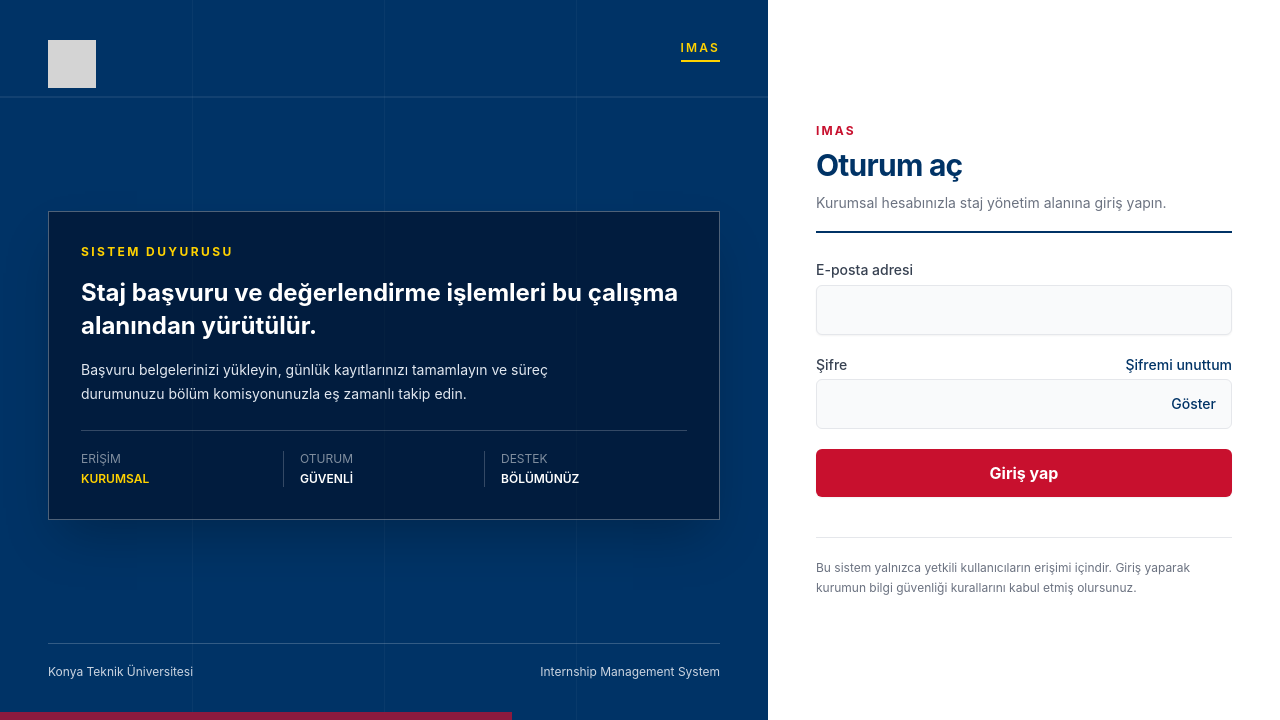
it: LoginPage › shows an inline error for invalid credentials without redirecting
Step 1. Type "student@ktun.edu.tr" into the field labelled "E-posta adresi" → (1024, 310), box [816, 284, 1232, 334]
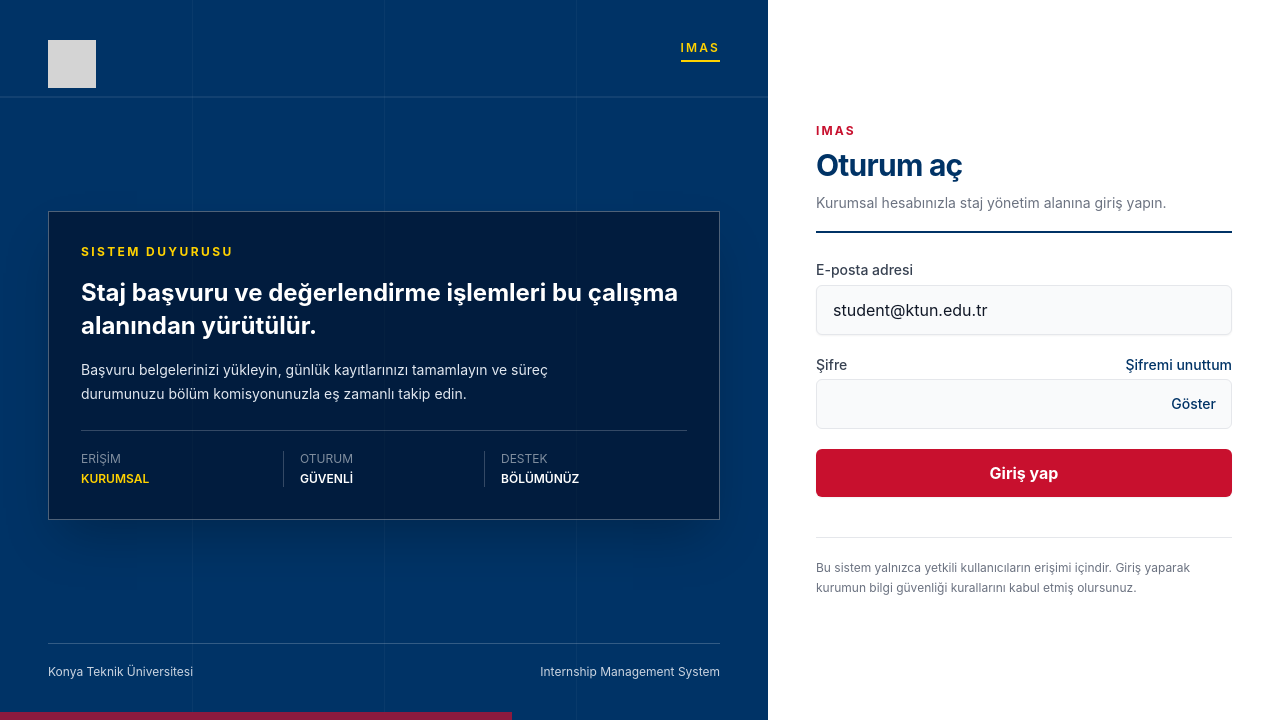
Step 2. Type "incorrect-password" into the password field labelled "Şifre" → (1024, 404), box [816, 378, 1232, 428]
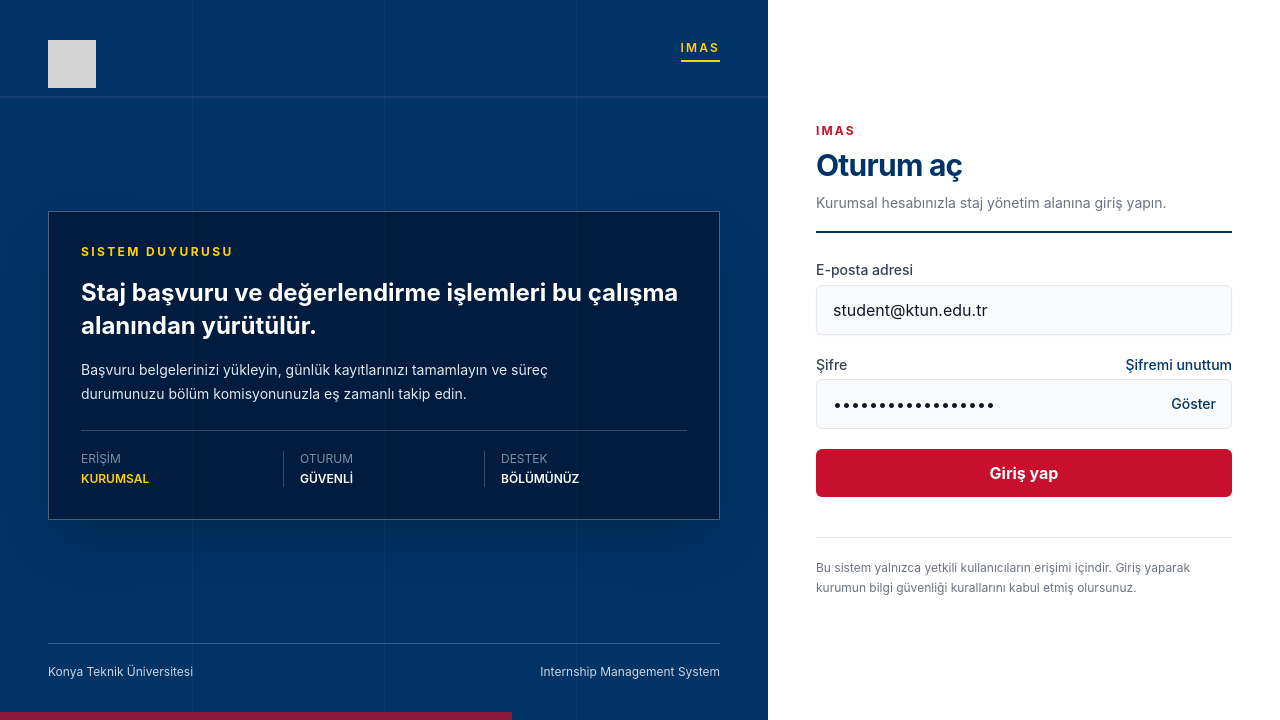
Step 3. Click the button "Giriş yap" → (1024, 472), box [816, 448, 1232, 496]
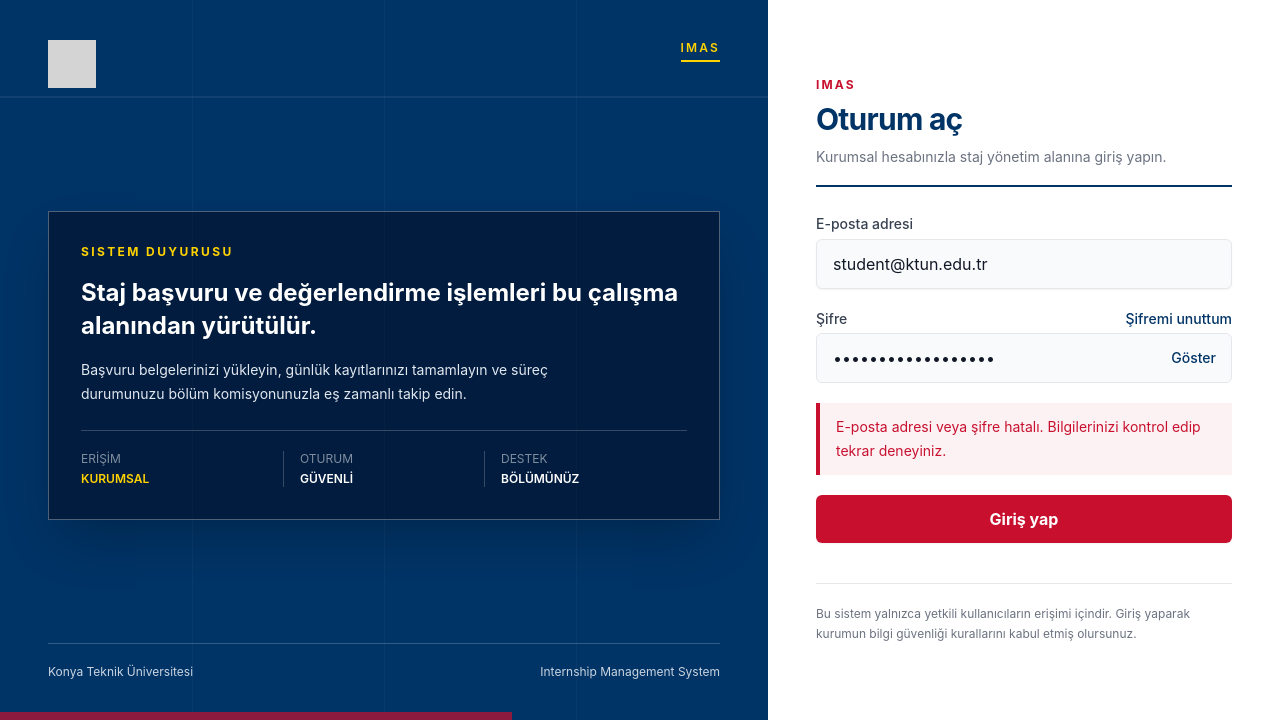
Expected: the message shows "E-posta adresi veya şifre hatalı", [836, 418, 1201, 458]
